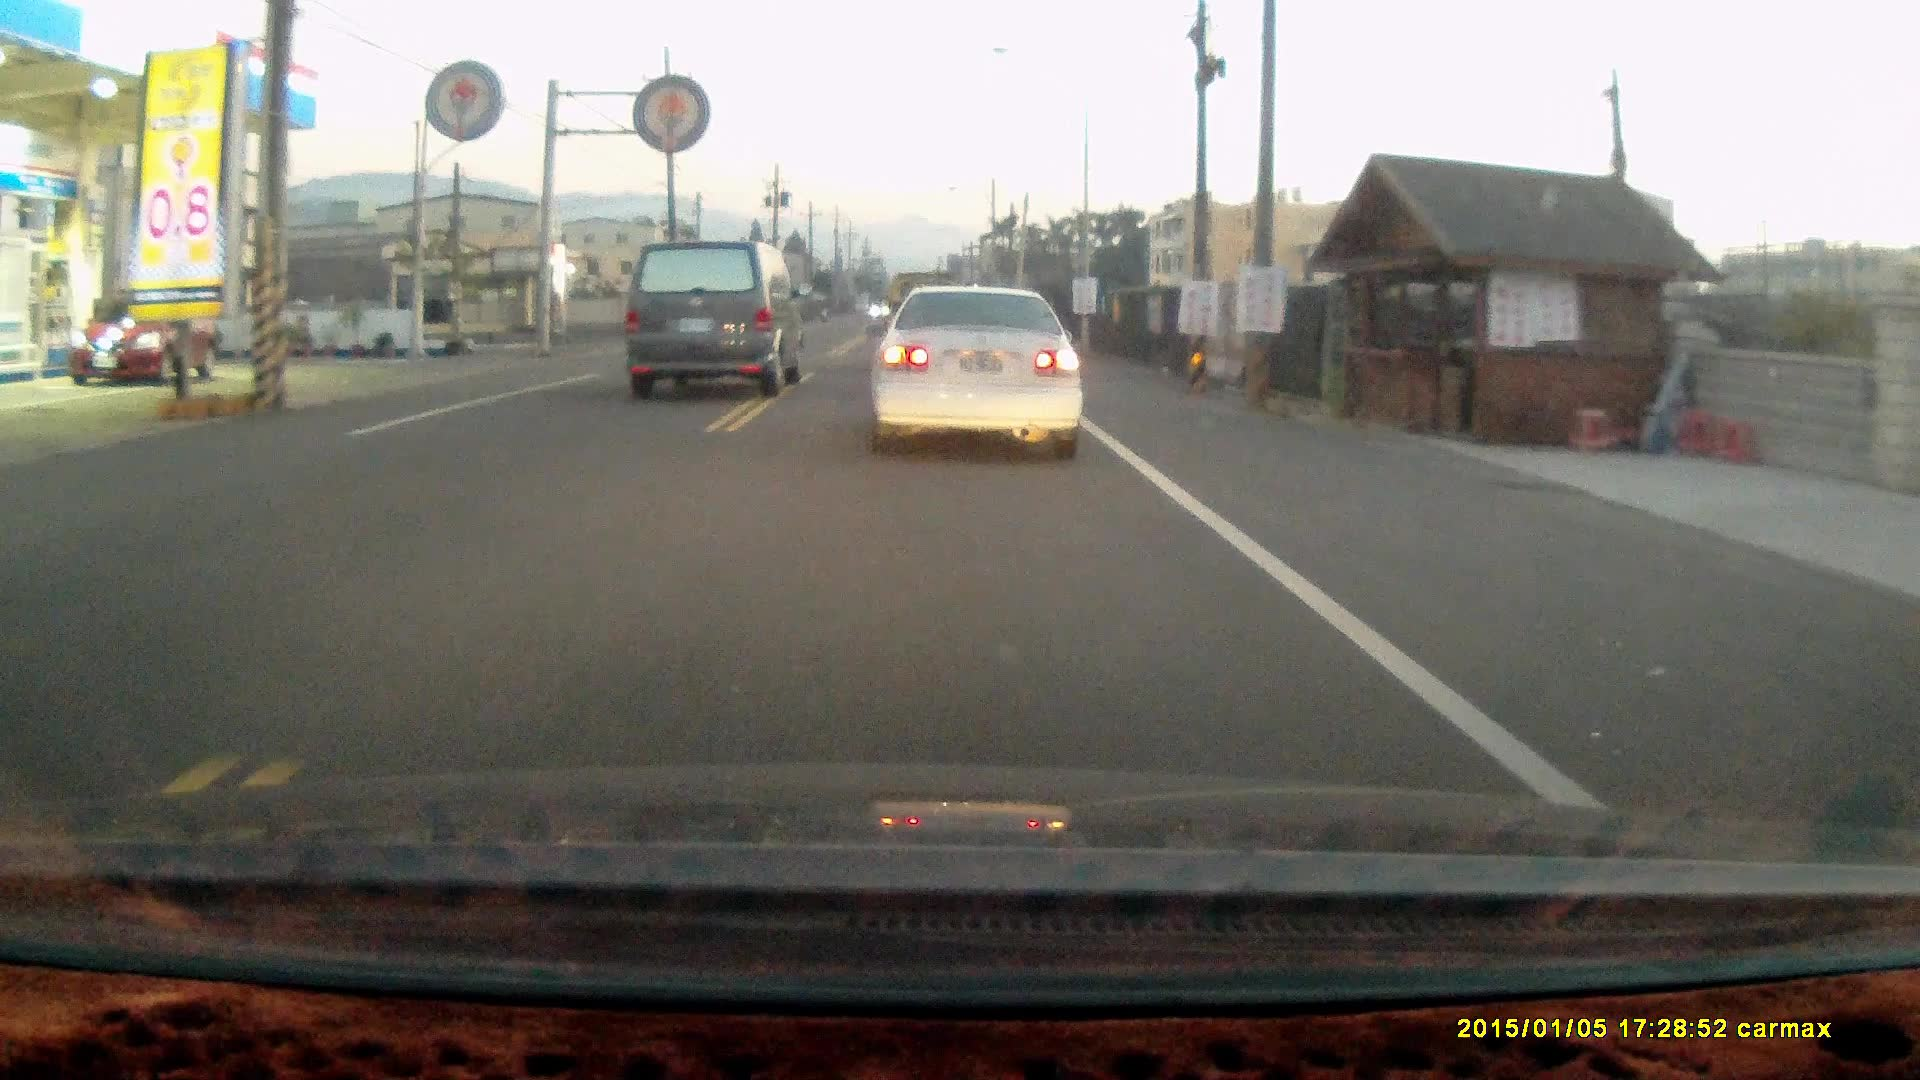vehicle: (862, 284, 1091, 465), (621, 237, 806, 397), (78, 293, 222, 392)
